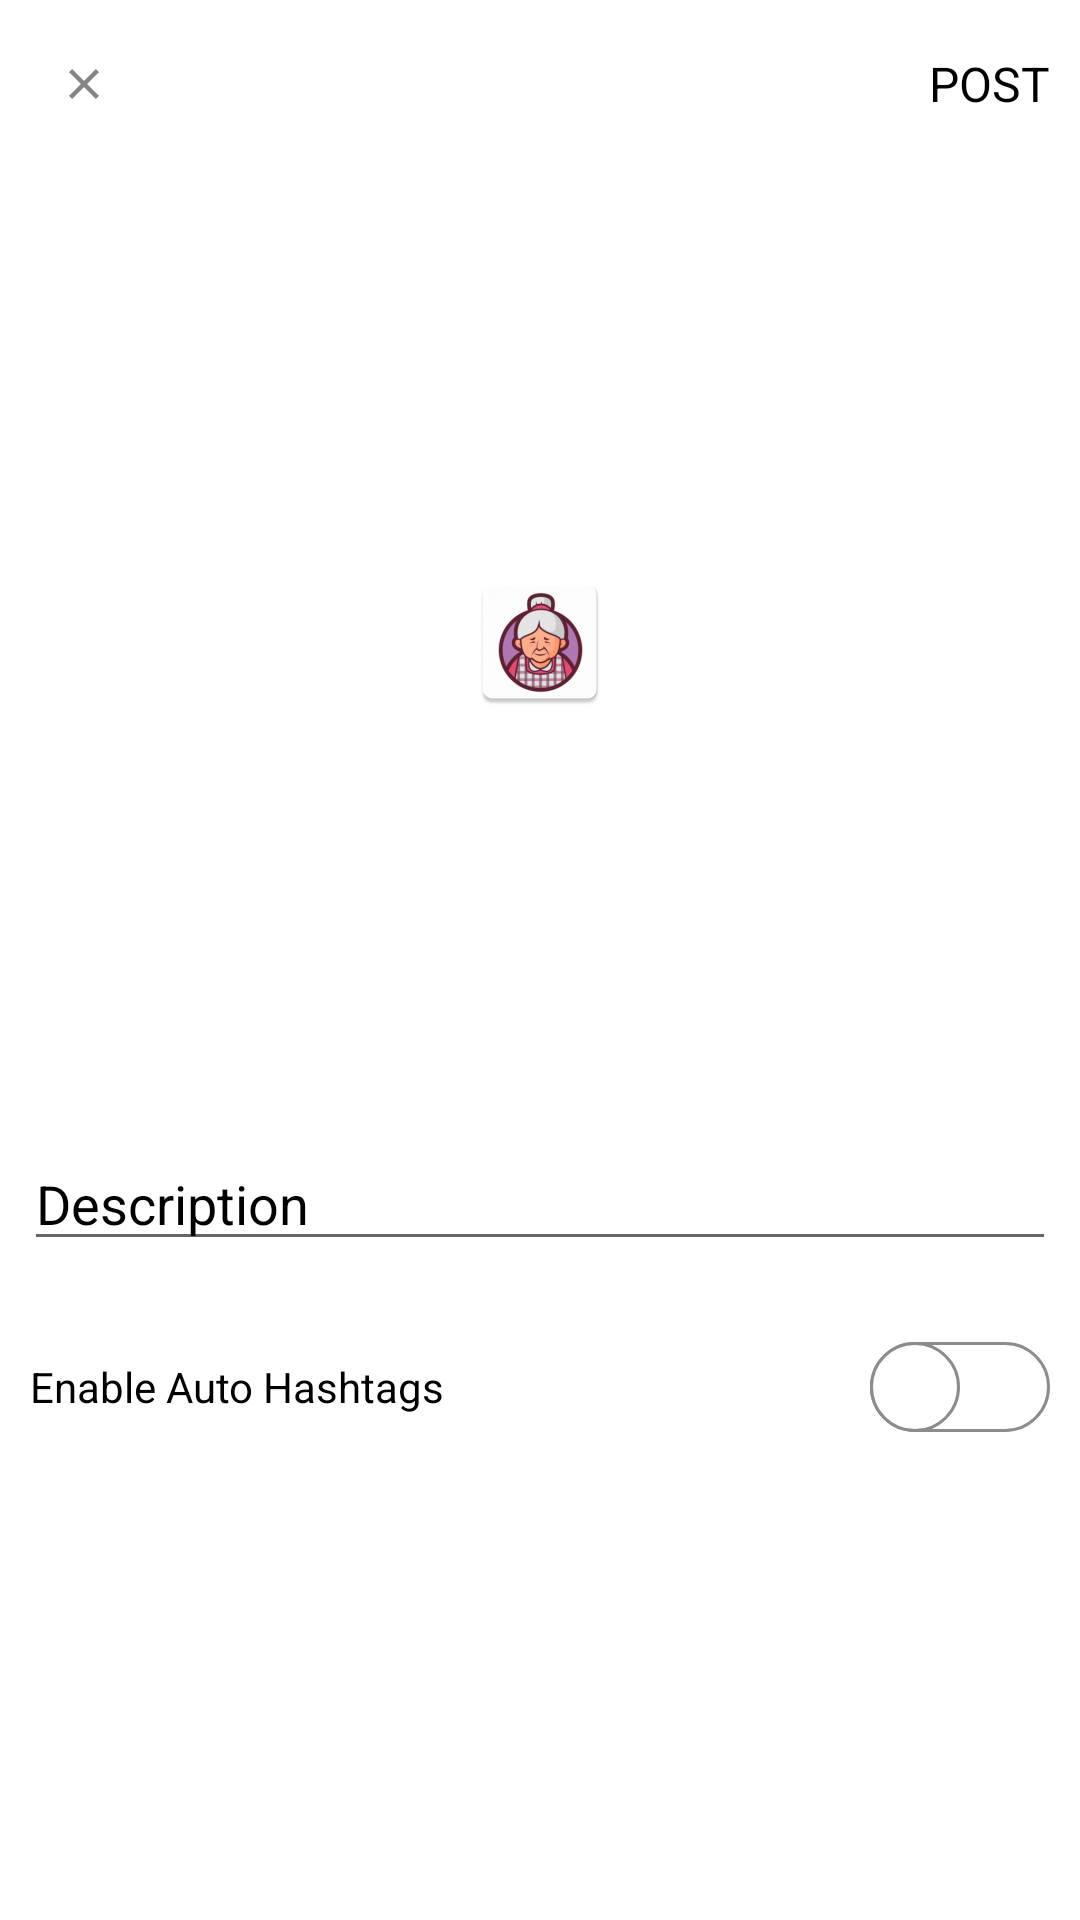

Locate icon controls on the screen. Image size 1080*1920, boxes as (x1, y1, x2, y2).
close: (69, 69, 99, 99)
